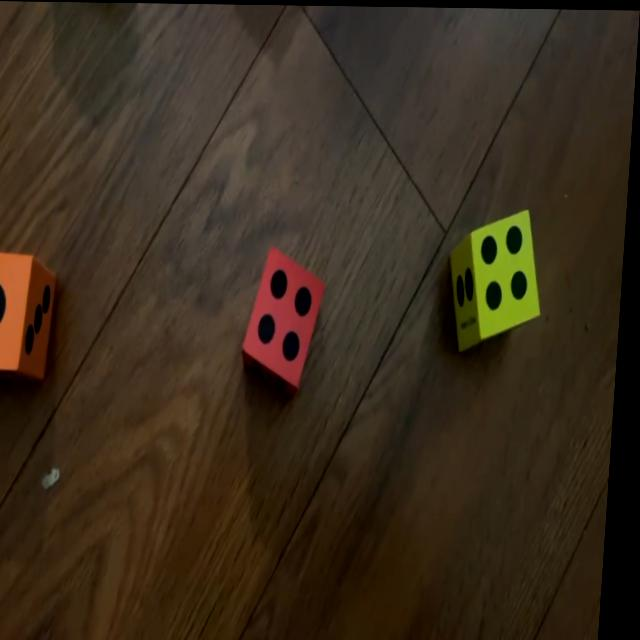cube: (244, 246, 332, 391)
